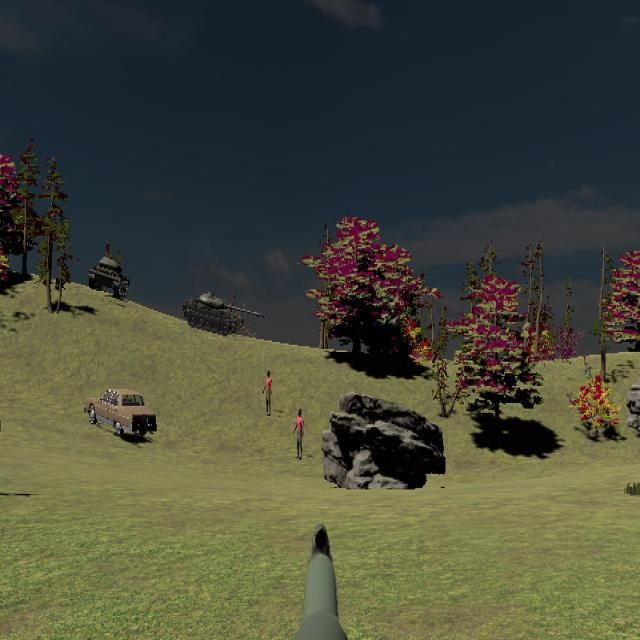Human: (293, 407, 305, 461), (263, 369, 273, 417)
Tank: (182, 290, 267, 337), (88, 255, 130, 298)
car: (84, 387, 157, 439)
